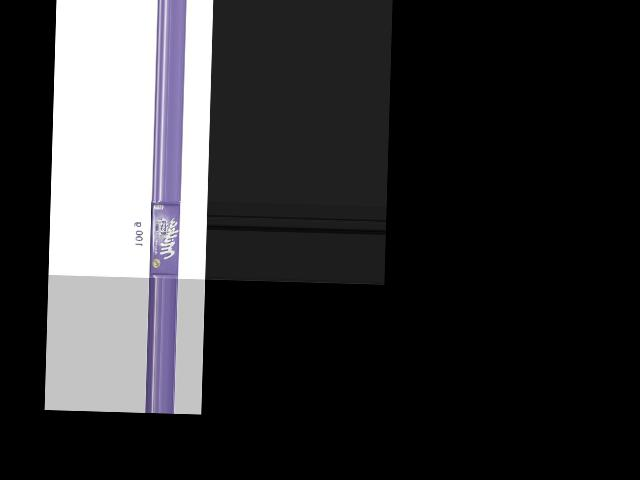chocolate: (143, 199, 181, 276)
